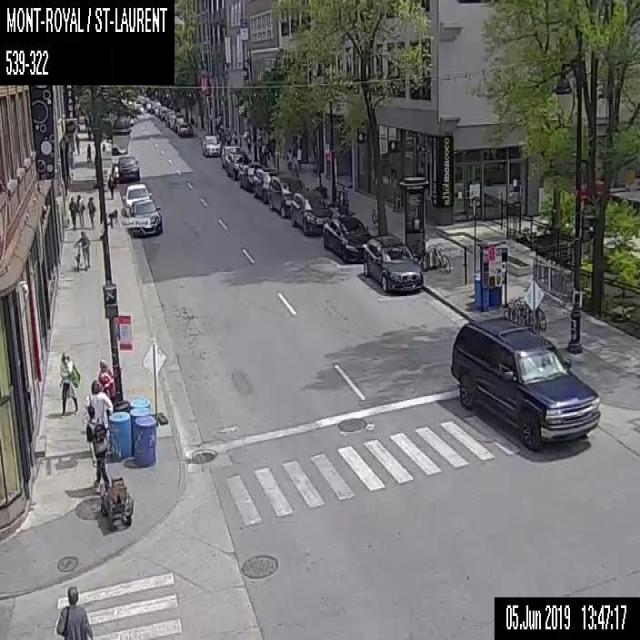cyclist: (72, 230, 90, 270)
pedestrian: (85, 404, 133, 528), (56, 585, 94, 639), (84, 378, 112, 441), (58, 349, 79, 415), (98, 358, 114, 409), (68, 195, 77, 229), (76, 194, 85, 228), (86, 196, 95, 229), (106, 172, 115, 199), (286, 146, 294, 170), (75, 134, 80, 154), (86, 142, 91, 162), (246, 134, 251, 152), (225, 130, 231, 144), (232, 128, 237, 144), (87, 126, 91, 140), (84, 116, 87, 130), (87, 634, 91, 638)
vehicle: (449, 296, 601, 449), (363, 232, 423, 290), (322, 215, 372, 262), (290, 189, 333, 235), (267, 170, 309, 216), (123, 197, 162, 237), (252, 167, 277, 202), (237, 162, 265, 191), (122, 182, 152, 208), (224, 150, 250, 179), (116, 155, 139, 181), (202, 134, 222, 155), (220, 145, 240, 166), (165, 111, 184, 128), (174, 121, 192, 137), (150, 100, 162, 112), (156, 104, 166, 118), (163, 109, 174, 119), (134, 102, 143, 112)
